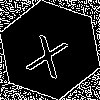X: (25, 25, 74, 79)
